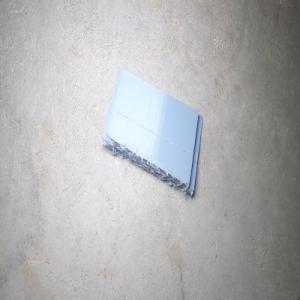PlasticPart: (99, 68, 202, 196)
